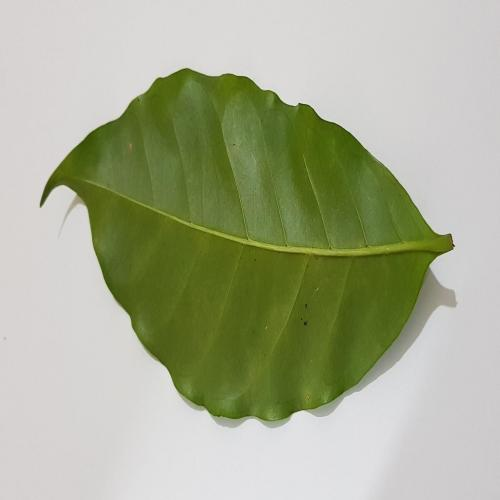leaf: (36, 67, 456, 424)
